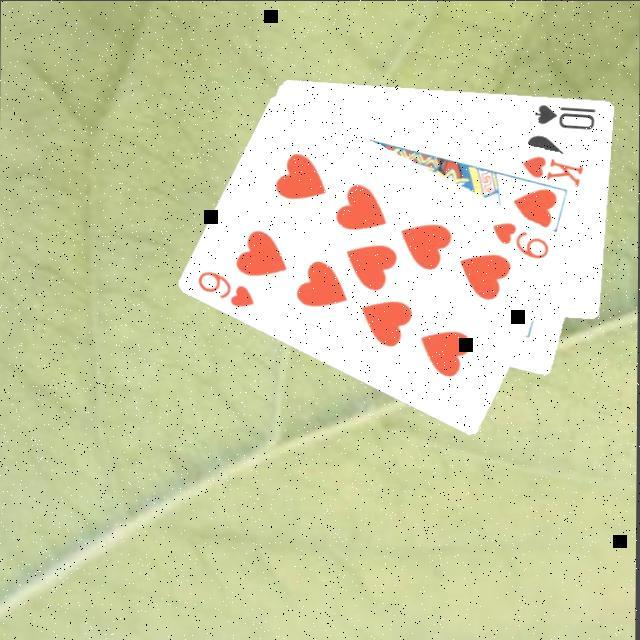10S: (532, 101, 600, 134)
9H: (490, 218, 554, 263), (195, 268, 260, 312)
KH: (520, 153, 588, 192)
